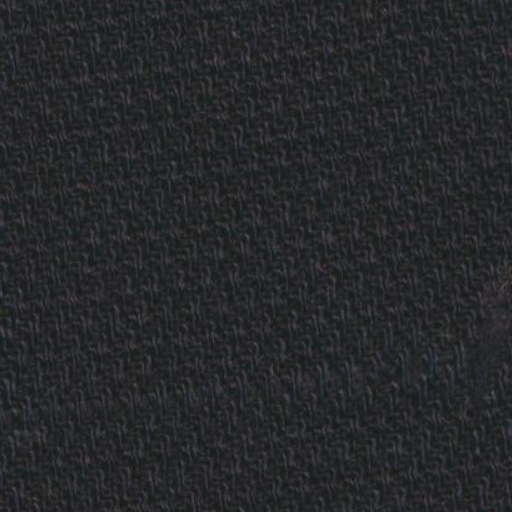DaiSha: (466, 295, 508, 402)
